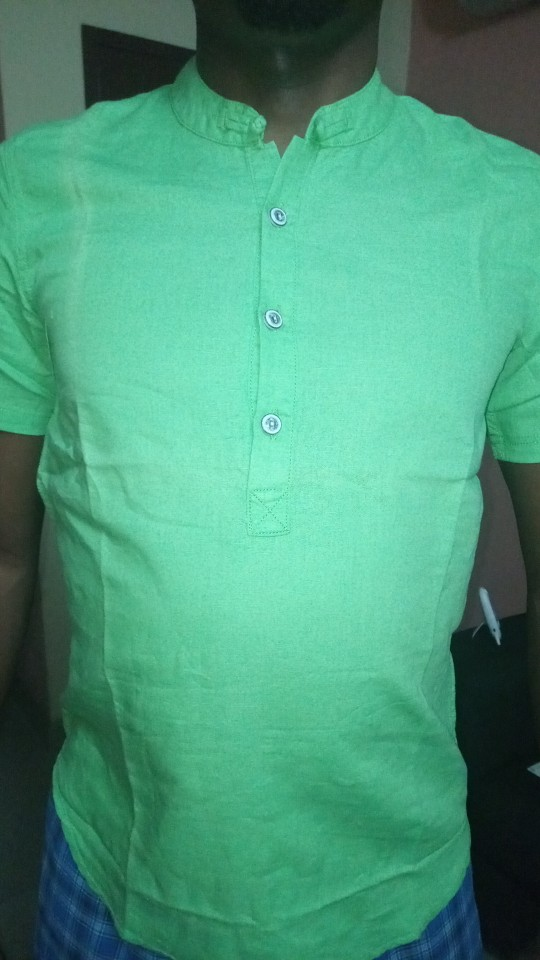shirts: (14, 71, 540, 890)
